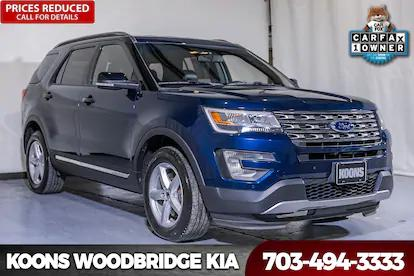Ford Explorer: (19, 30, 395, 242)
